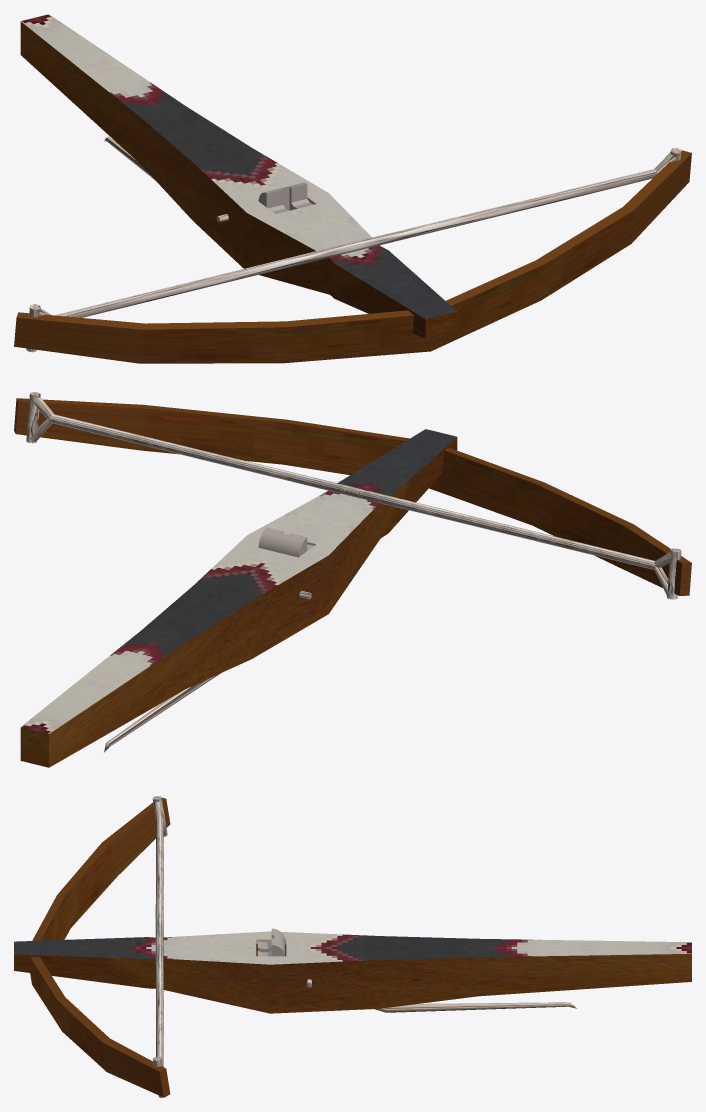
The model's file is Hunter_Crossbow.fbx.
3 views of the same model, one above another, from view 1: azimuth 30°, elevation 25°; view 2: azimuth 150°, elevation 25°; view 3: azimuth 270°, elevation 25° (orthographic). The views are drawn at different scales.
Visible parts, largest first — view 1: body; view 2: body; view 3: body.
Part boxes in pixels (x1,y1,x2,y2): body: [14, 14, 691, 363]; body: [14, 392, 691, 767]; body: [14, 796, 691, 1097].
Size of the model in its own units: 81.62 by 11.74 by 85.13.
